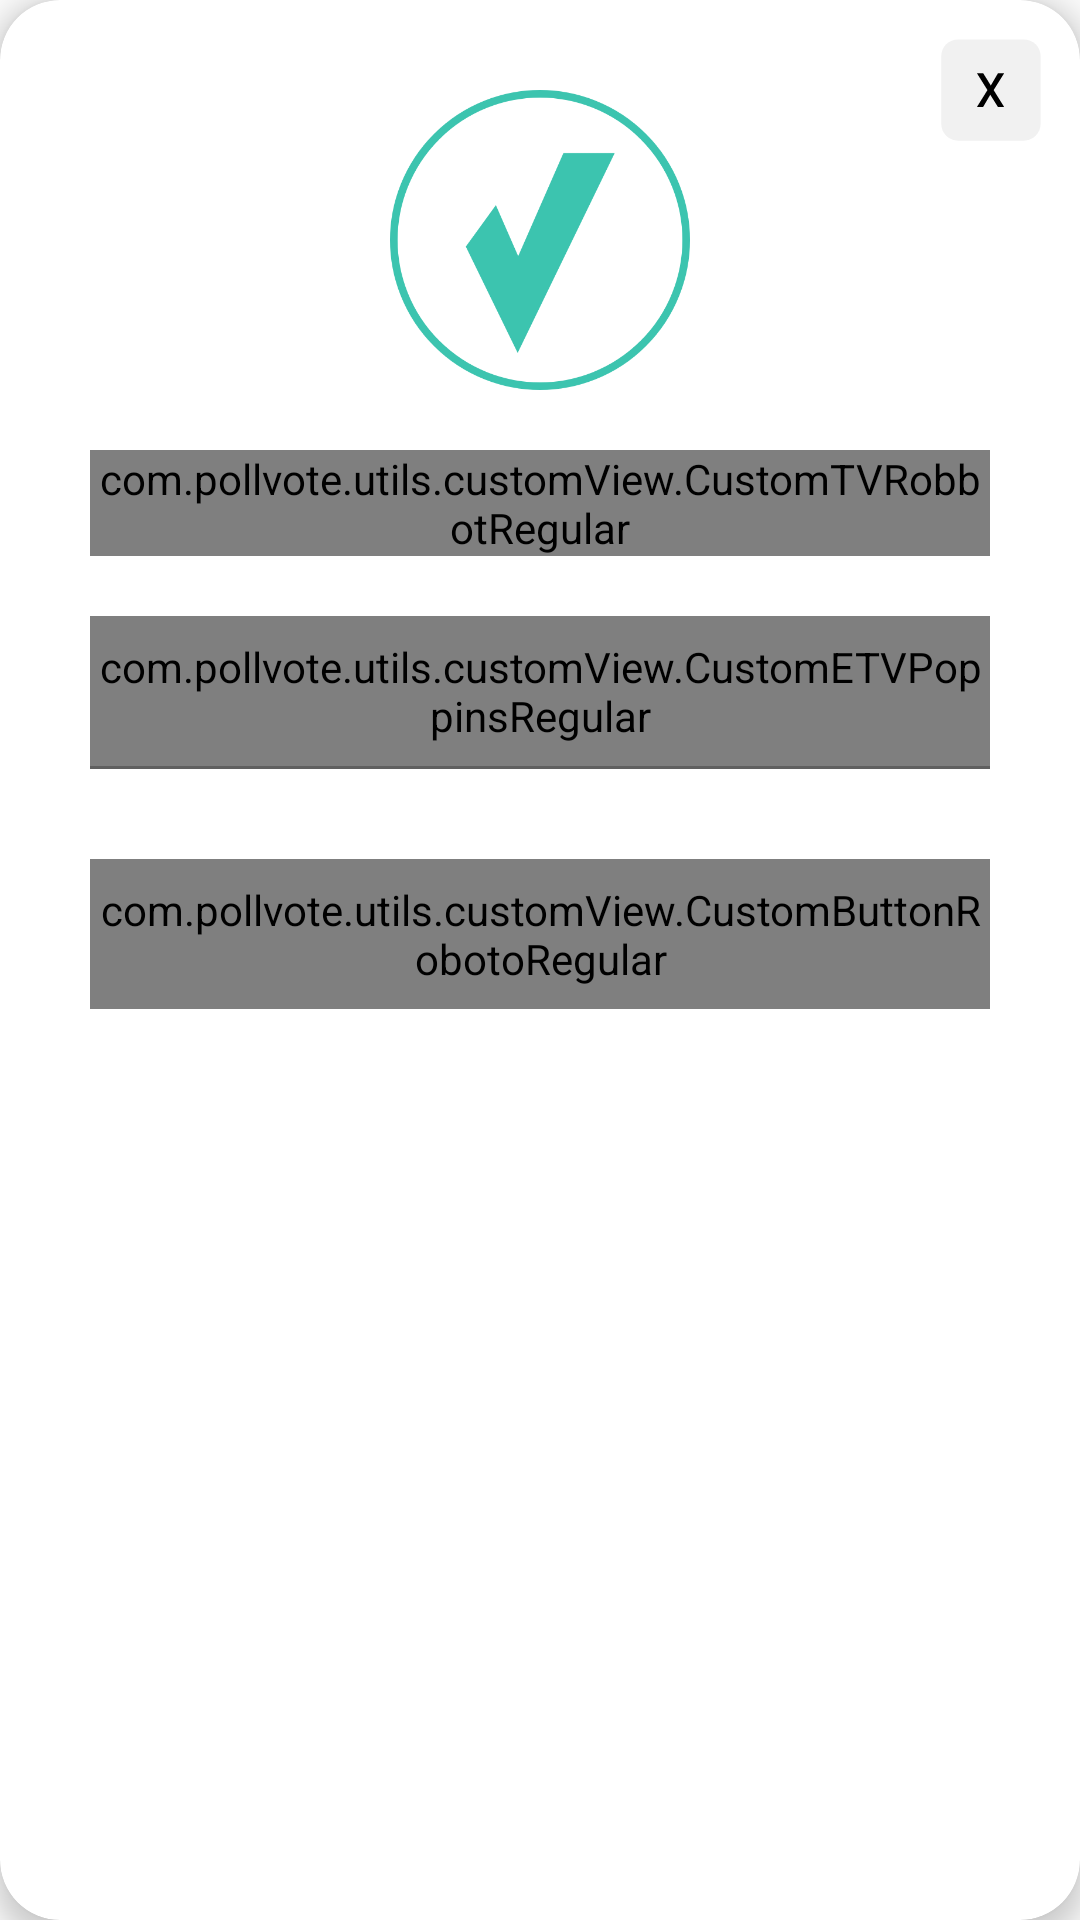

Icons on this 1080px x 1920px Android screen, each with the point to tap as (x=x, y=y):
cross: (x=991, y=90)
validate: (x=540, y=240)
